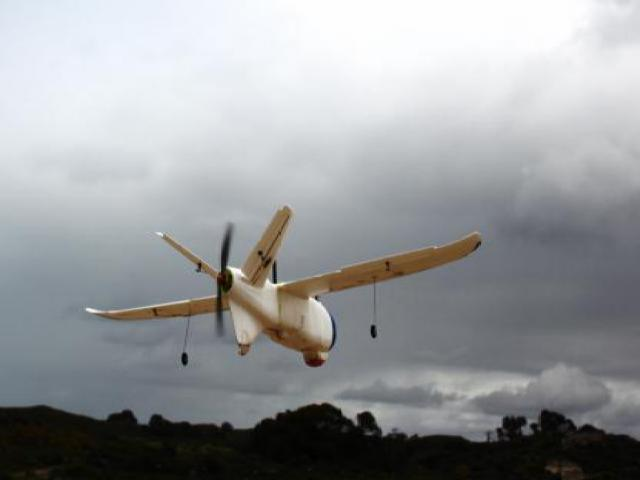uav: (83, 200, 483, 360)
